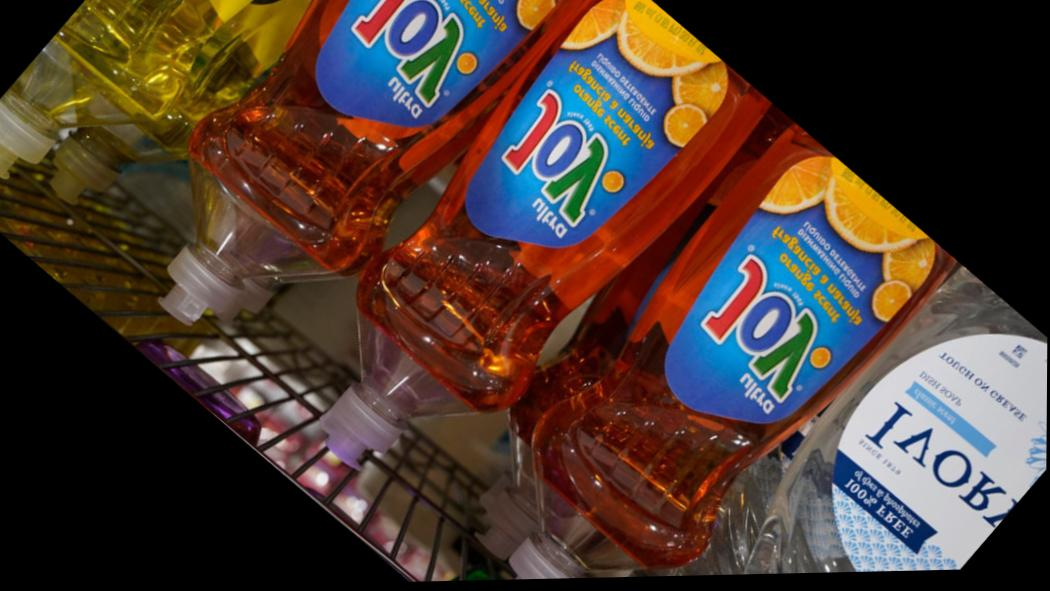plastic: (404, 81, 961, 576), (313, 0, 790, 576), (190, 0, 597, 409), (673, 269, 1049, 590), (0, 0, 380, 293)
